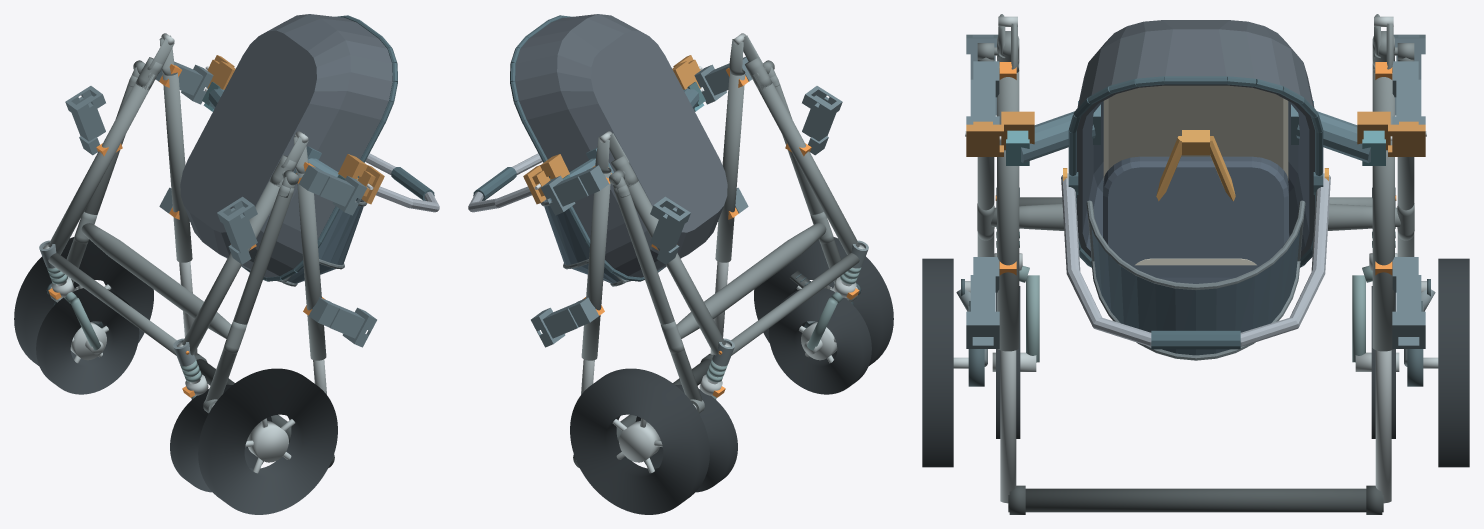
File: S07_w650_state3_wheel_M.glb
3 renders of one model, left to right at view 1: azimuth 30°, elevation 25°; view 2: azimuth 150°, elevation 25°; view 3: azimuth 270°, elevation 25°, orthographic. The views are drawn at different scales.
Parts seen in each view (by area): view 1: S07_Cabin, RL_tire.008, FR_tire.008, RR_tire.008, V46_rearbar.009, main_lower_1.009, V46_rear_leg_-1.009, main_upper_1.009, main_upper_-1.009, FL_tire.008, main_lower_-1.009, front_fixed_round_tube.008 (+15 smaller); view 2: S07_Cabin, RR_tire.008, FL_tire.008, RL_tire.008, V46_rearbar.009, main_lower_-1.009, V46_rear_leg_1.009, main_upper_-1.009, main_upper_1.009, FR_tire.008, main_lower_1.009, front_fixed_round_tube.008 (+16 smaller); view 3: S07_Cabin, round_handle.008, RL_tire.008, RR_tire.008, S07_Cabin_Mount_M, main_upper_1.009, main_upper_-1.009, Universal_Cabin_Receiver_H_1, Universal_Cabin_Receiver_H_-1, handle_slider_1.008, handle_slider_-1.008, V46_rearbar.009 (+15 smaller).
Boxes of the visible parts, x1,y1,x2,y2 form: S07_Cabin: (180, 14, 439, 286); RL_tire.008: (198, 368, 337, 514); FR_tire.008: (36, 288, 139, 394); RR_tire.008: (14, 237, 153, 365); V46_rearbar.009: (81, 223, 231, 338); main_lower_1.009: (48, 74, 155, 254); V46_rear_leg_-1.009: (205, 184, 294, 401); main_upper_1.009: (162, 73, 192, 262); main_upper_-1.009: (296, 171, 326, 360); FL_tire.008: (170, 384, 272, 492); main_lower_-1.009: (182, 179, 283, 355); front_fixed_round_tube.008: (48, 253, 176, 355); S07_Cabin: (468, 14, 727, 286); RR_tire.008: (570, 368, 709, 514); FL_tire.008: (768, 288, 871, 394); RL_tire.008: (754, 237, 893, 365); V46_rearbar.009: (676, 223, 826, 338); main_lower_-1.009: (752, 74, 859, 254); V46_rear_leg_1.009: (613, 184, 702, 401); main_upper_-1.009: (715, 73, 745, 262); main_upper_1.009: (581, 168, 611, 360); FR_tire.008: (635, 384, 737, 492); main_lower_1.009: (624, 179, 725, 355); front_fixed_round_tube.008: (731, 253, 859, 355); S07_Cabin: (1061, 20, 1330, 360); round_handle.008: (1008, 488, 1383, 512); RL_tire.008: (922, 258, 953, 467); RR_tire.008: (1438, 258, 1469, 467); S07_Cabin_Mount_M: (999, 101, 1392, 165); main_upper_1.009: (1372, 68, 1394, 351); main_upper_-1.009: (997, 71, 1019, 351); Universal_Cabin_Receiver_H_1: (1392, 257, 1425, 348); Universal_Cabin_Receiver_H_-1: (966, 257, 999, 348); handle_slider_1.008: (1375, 350, 1391, 503); handle_slider_-1.008: (1000, 350, 1016, 503); V46_rearbar.009: (991, 203, 1400, 230).
Size of the model in its own units: 0.7254 by 0.8458 by 0.7871.
